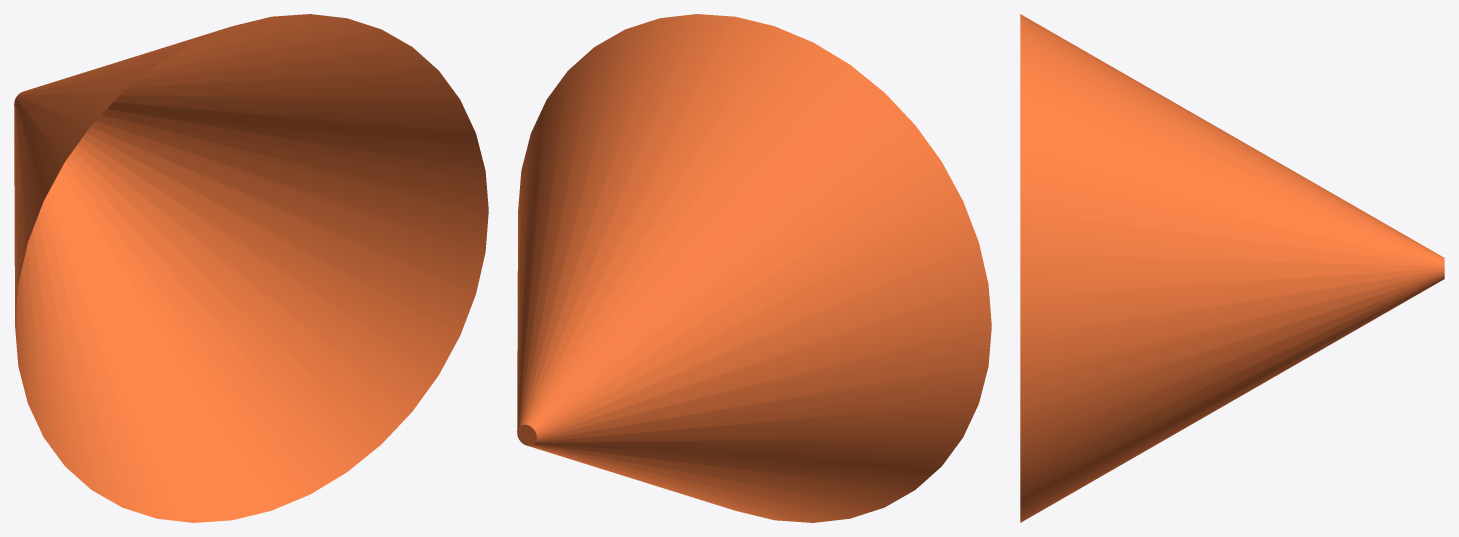
Rendered from ant.obj.
The picture shows the model from 3 angles, left to right: view 1: azimuth 30°, elevation 25°; view 2: azimuth 150°, elevation 25°; view 3: azimuth 270°, elevation 25°; orthographic projection. The views are drawn at different scales.
Size of the model in its own units: 4.8 by 4.78 by 4.
